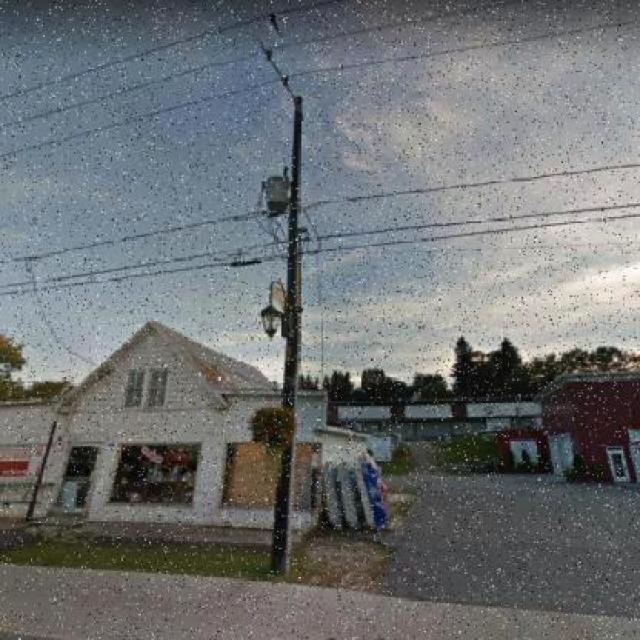pole: (272, 97, 303, 578)
transformer: (259, 174, 291, 218), (269, 278, 291, 317)
wire: (0, 19, 640, 159), (0, 0, 530, 131), (0, 162, 640, 264), (0, 202, 640, 288), (0, 213, 640, 297), (0, 0, 350, 103)
